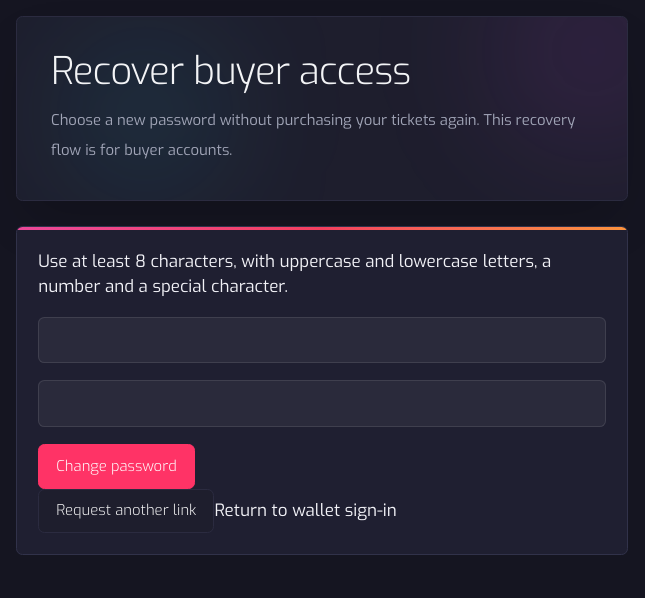
Buyer password recovery › refuses mismatched confirmation without a request
In the password field named "New password": (322, 340) x1=38 y1=316 x2=606 y2=363, type "Synthetic-New1!"
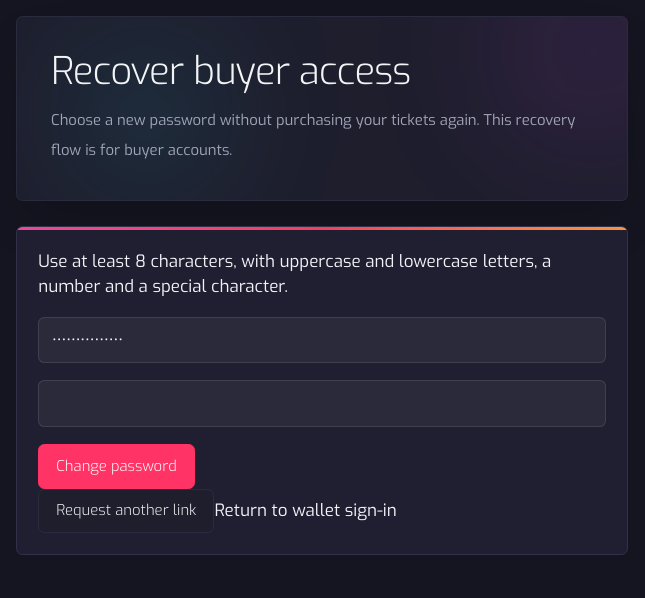
In the password field named "Confirm new password": (322, 404) x1=38 y1=380 x2=606 y2=427, type "Synthetic-New1!"
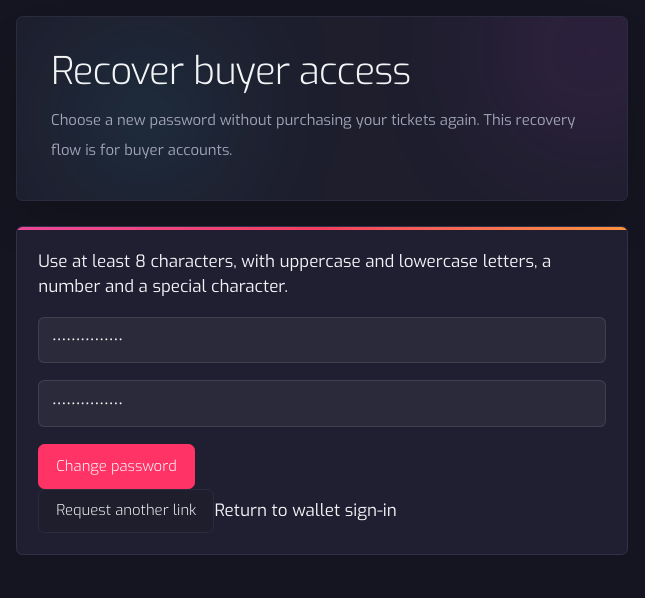
In the password field named "Confirm new password": (322, 404) x1=38 y1=380 x2=606 y2=427, type "Different1!"
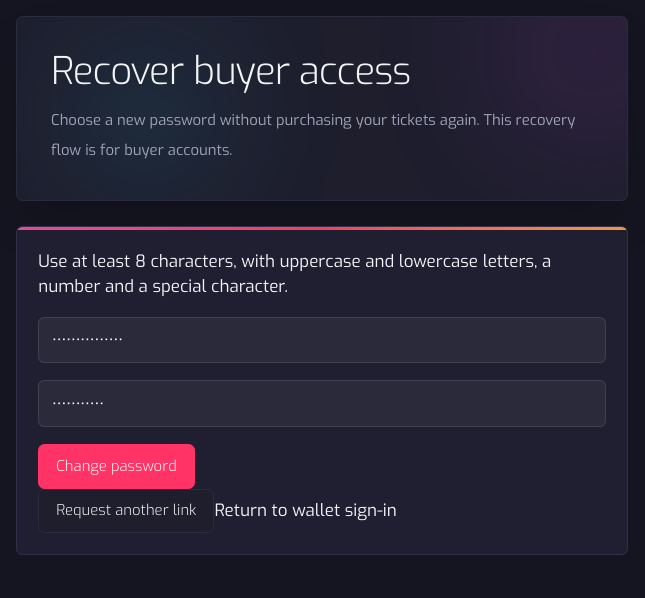
Click the button "Change password": (117, 466) x1=38 y1=444 x2=195 y2=488
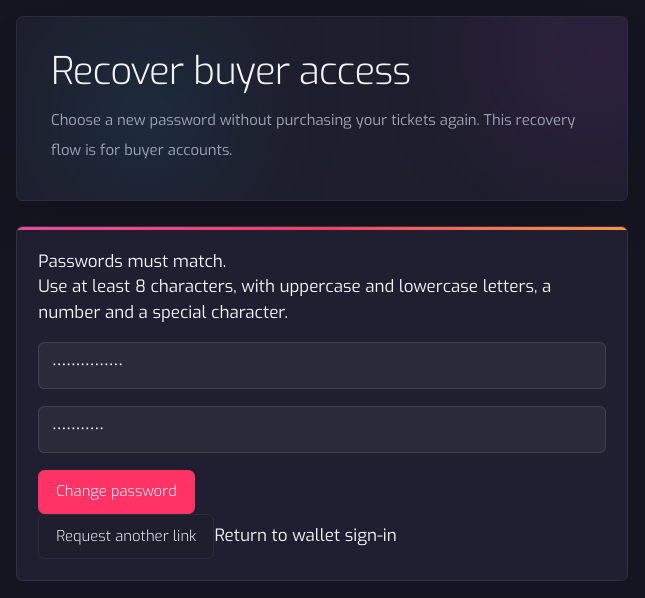
Result: the message shows "Passwords must match" at x1=38 y1=250 x2=226 y2=272
